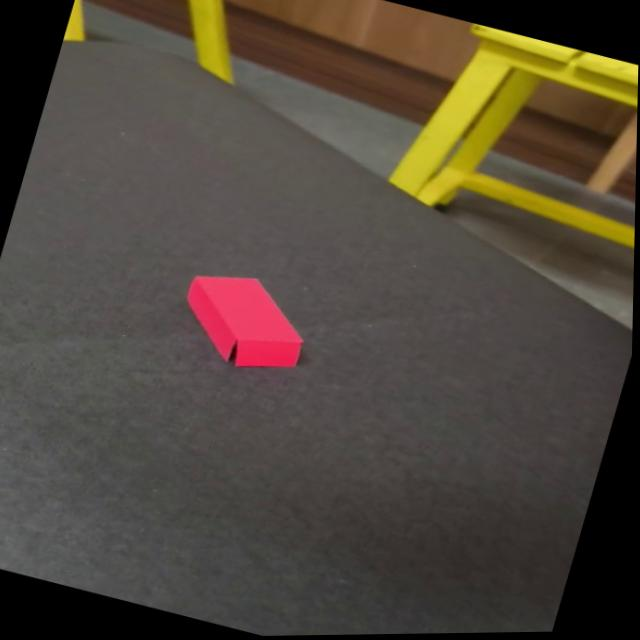red block: (170, 259, 322, 383)
